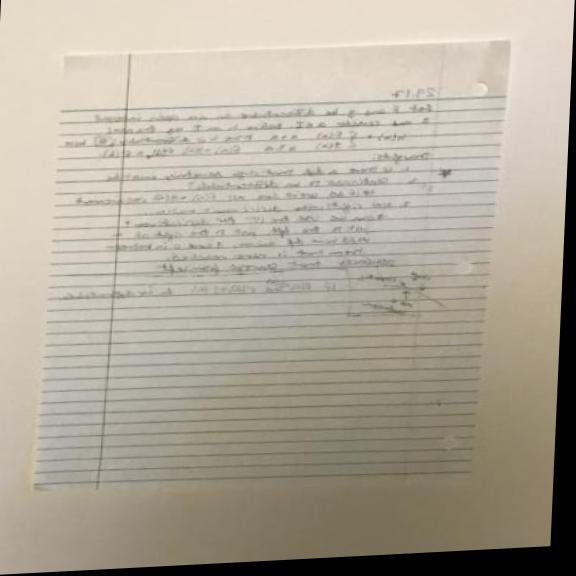Kertas: (24, 31, 516, 501)
